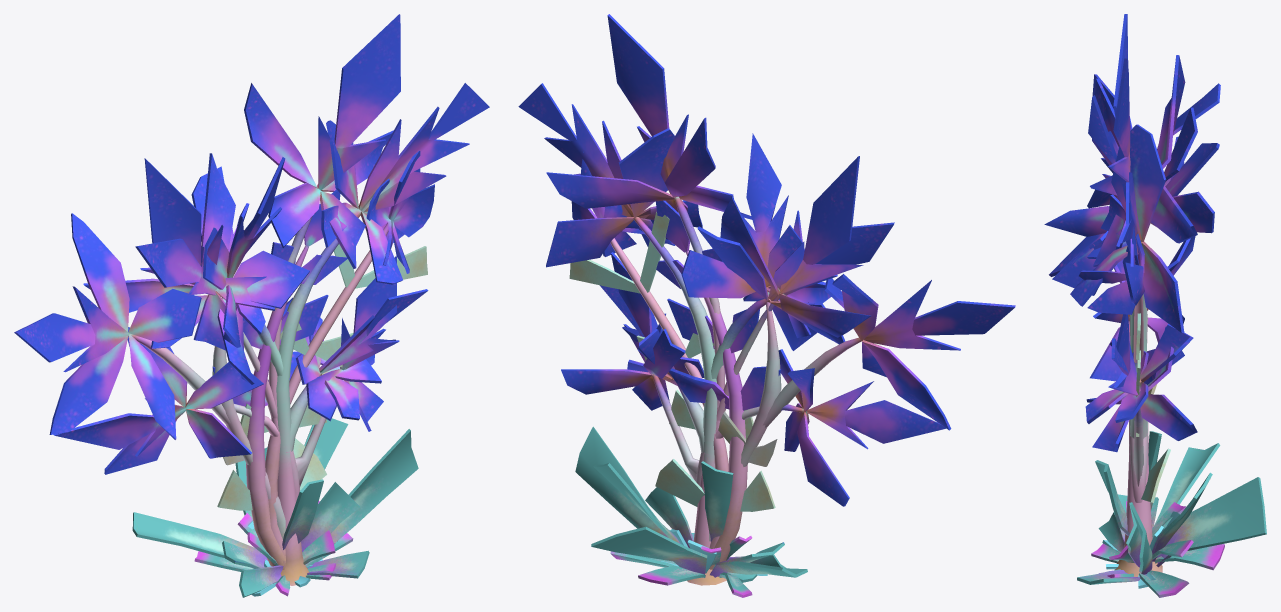
The model's file is smallPlants.fbx.
The picture shows the model from 3 angles, left to right: view 1: azimuth 30°, elevation 25°; view 2: azimuth 150°, elevation 25°; view 3: azimuth 270°, elevation 25°; orthographic projection. The views are drawn at different scales.
Parts seen in each view (by area): view 1: SmallFlower_B_geo, SmallFlower_A_geo, SmallFlower_C_geo, Grass_B_geo, SmallFlower_D_geo, SmallFlower_E_geo, Grass_A_geo; view 2: SmallFlower_B_geo, SmallFlower_A_geo, SmallFlower_C_geo, Grass_B_geo, SmallFlower_D_geo, SmallFlower_E_geo, Grass_A_geo; view 3: SmallFlower_A_geo, SmallFlower_B_geo, Grass_B_geo, SmallFlower_C_geo, SmallFlower_D_geo, Grass_A_geo, Grass_C_geo.
Boxes of the visible parts, <box> form: SmallFlower_B_geo: <box>53,14,400,499</box>; SmallFlower_A_geo: <box>135,83,489,585</box>; SmallFlower_C_geo: <box>14,157,285,539</box>; Grass_B_geo: <box>132,418,418,597</box>; SmallFlower_D_geo: <box>217,150,434,567</box>; SmallFlower_E_geo: <box>212,189,347,569</box>; Grass_A_geo: <box>194,501,353,596</box>; SmallFlower_B_geo: <box>546,14,945,506</box>; SmallFlower_A_geo: <box>518,83,894,585</box>; SmallFlower_C_geo: <box>681,133,1015,541</box>; Grass_B_geo: <box>575,426,807,577</box>; SmallFlower_D_geo: <box>569,151,775,548</box>; SmallFlower_E_geo: <box>655,200,781,569</box>; Grass_A_geo: <box>610,536,757,597</box>; SmallFlower_A_geo: <box>1052,78,1219,576</box>; SmallFlower_B_geo: <box>1086,14,1197,502</box>; Grass_B_geo: <box>1077,431,1266,584</box>; SmallFlower_C_geo: <box>1044,74,1220,394</box>; SmallFlower_D_geo: <box>1079,227,1170,502</box>; Grass_A_geo: <box>1091,501,1224,597</box>; Grass_C_geo: <box>1102,511,1179,588</box>.
Size of the model in its own units: 4.61 by 4.88 by 1.74.
Materials: 1 (1 with a texture image).
